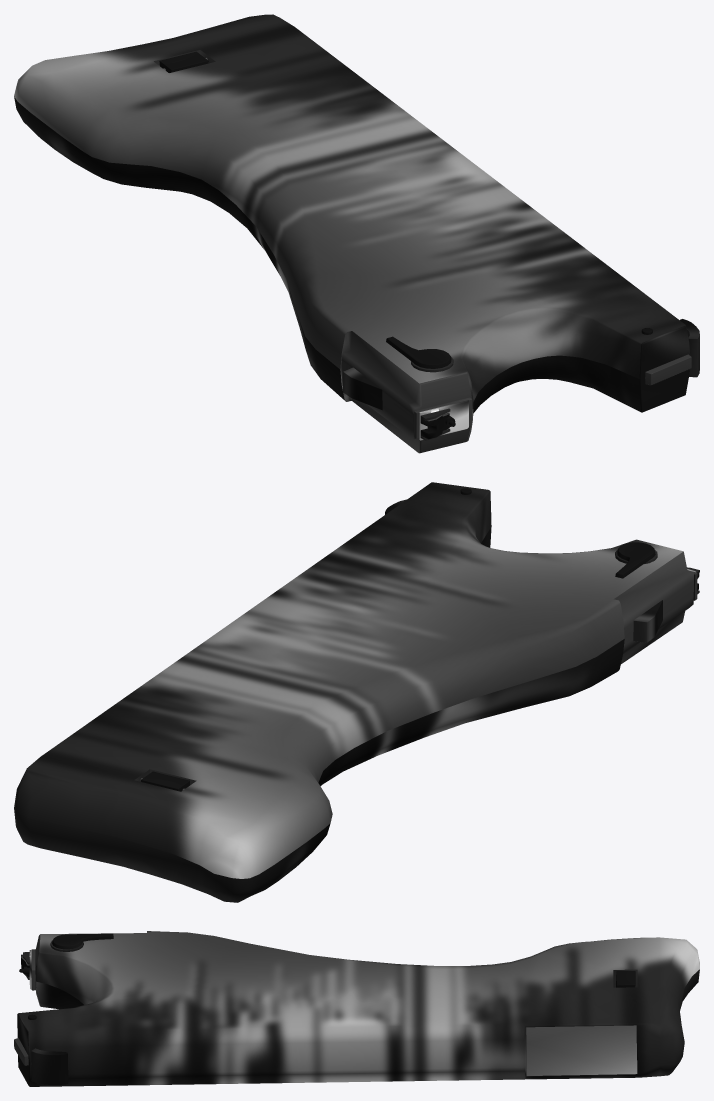
Rendered from 000_vp70csparts01a.fbx.
The picture shows the model from 3 angles, top to bottom: view 1: azimuth 30°, elevation 25°; view 2: azimuth 150°, elevation 25°; view 3: azimuth 270°, elevation 25°; orthographic projection. The views are drawn at different scales.
Parts seen in each view (by area): view 1: LOD_1_Group_0_Sub_1__sm71_000_VP70CSParts01A_Mat; view 2: LOD_1_Group_0_Sub_1__sm71_000_VP70CSParts01A_Mat; view 3: LOD_1_Group_0_Sub_1__sm71_000_VP70CSParts01A_Mat.
Boxes of the visible parts, x1,y1,x2,y2 form: LOD_1_Group_0_Sub_1__sm71_000_VP70CSParts01A_Mat: (14, 14, 699, 453); LOD_1_Group_0_Sub_1__sm71_000_VP70CSParts01A_Mat: (14, 482, 699, 902); LOD_1_Group_0_Sub_1__sm71_000_VP70CSParts01A_Mat: (14, 931, 699, 1086).
Size of the model in its own units: 0.1234 by 0.033 by 0.3096.
